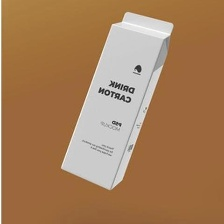carton: (50, 9, 175, 197)
